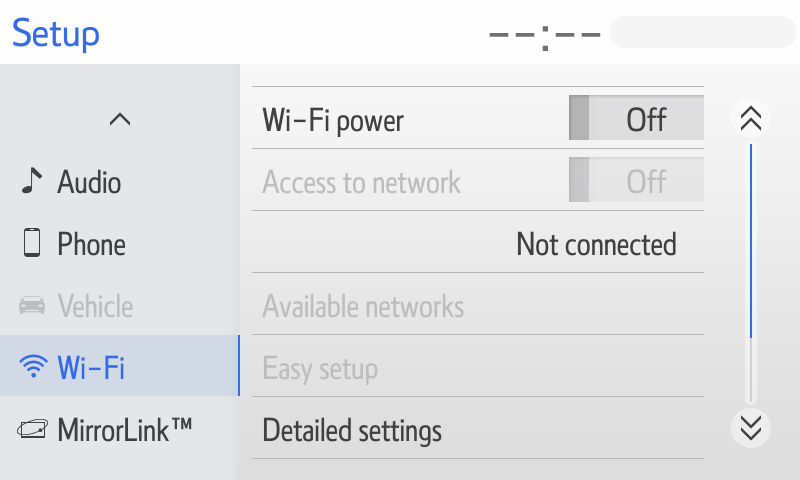touchPart: (250, 393, 708, 463), (245, 83, 706, 150), (16, 410, 201, 451), (11, 224, 130, 266), (18, 160, 124, 198), (734, 406, 777, 442), (728, 102, 769, 131), (103, 105, 134, 127)
untouchPart: (243, 141, 709, 215), (252, 269, 709, 342), (253, 332, 709, 399), (1, 333, 242, 399), (476, 15, 794, 53), (17, 289, 135, 325), (10, 12, 101, 53)
